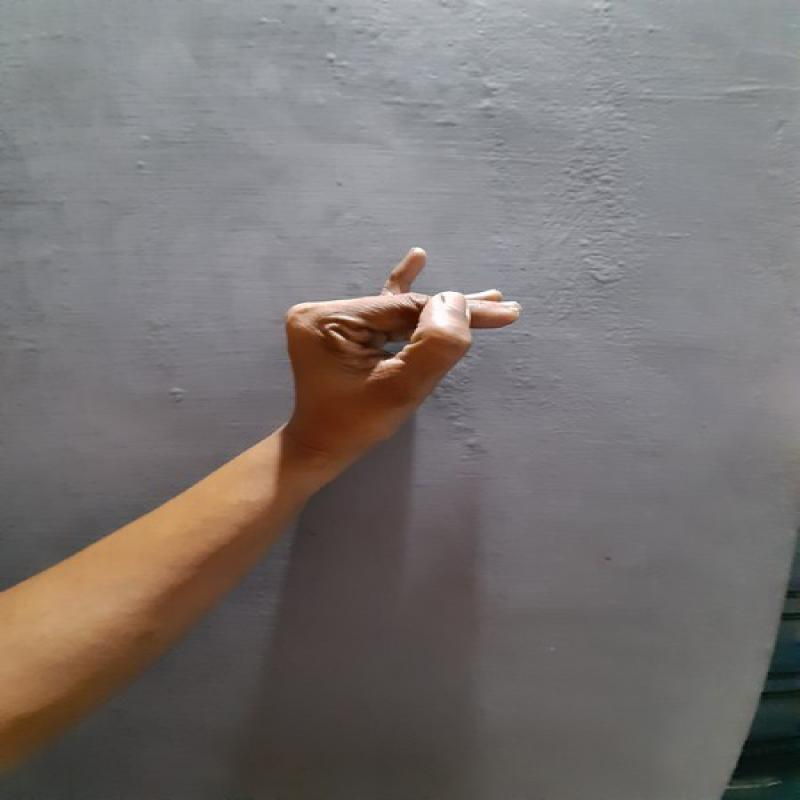Kartharee Mukham: (275, 249, 524, 467)
